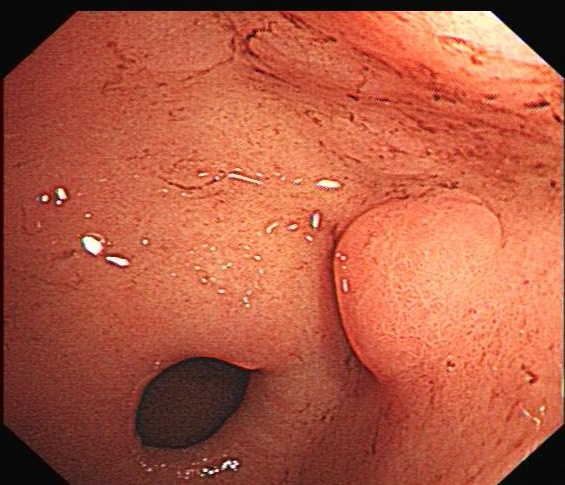Polyp: (322, 196, 493, 378)
